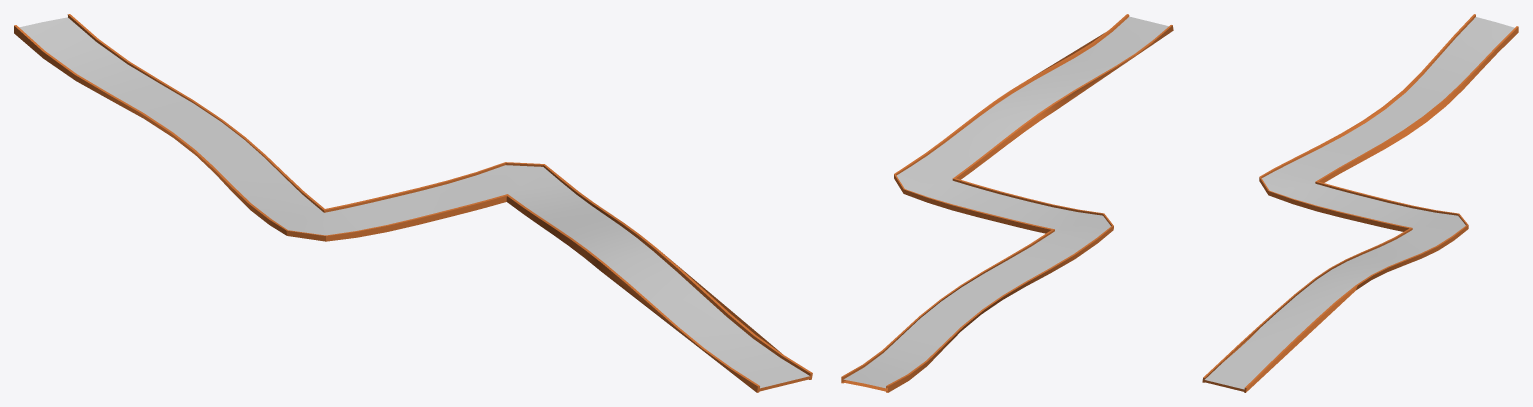
Rendered from conveyor_sty.fbx.
The picture shows the model from 3 angles, left to right: view 1: azimuth 30°, elevation 25°; view 2: azimuth 150°, elevation 25°; view 3: azimuth 330°, elevation 25°; orthographic projection. The views are drawn at different scales.
Visible parts, largest first — view 1: ConveyorBelt; view 2: ConveyorBelt; view 3: ConveyorBelt.
Boxes of the visible parts, left/top/right/bottom form: ConveyorBelt: left=14, top=14, right=812, bottom=392; ConveyorBelt: left=841, top=14, right=1173, bottom=392; ConveyorBelt: left=1202, top=14, right=1518, bottom=392.
Size of the model in its own units: 1365 by 126 by 4901.
